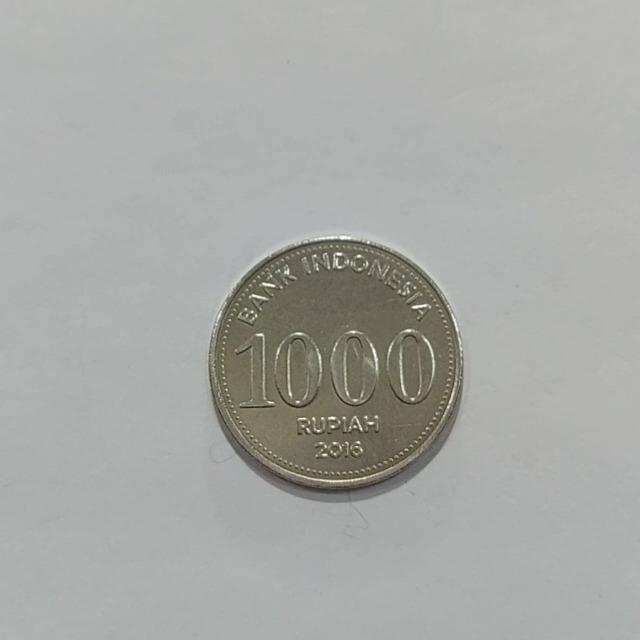Rp100: (206, 234, 465, 493)
